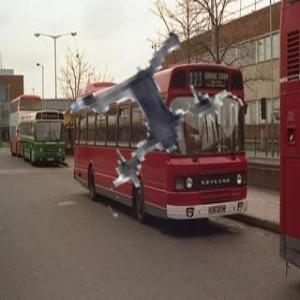drone: (65, 23, 254, 212)
